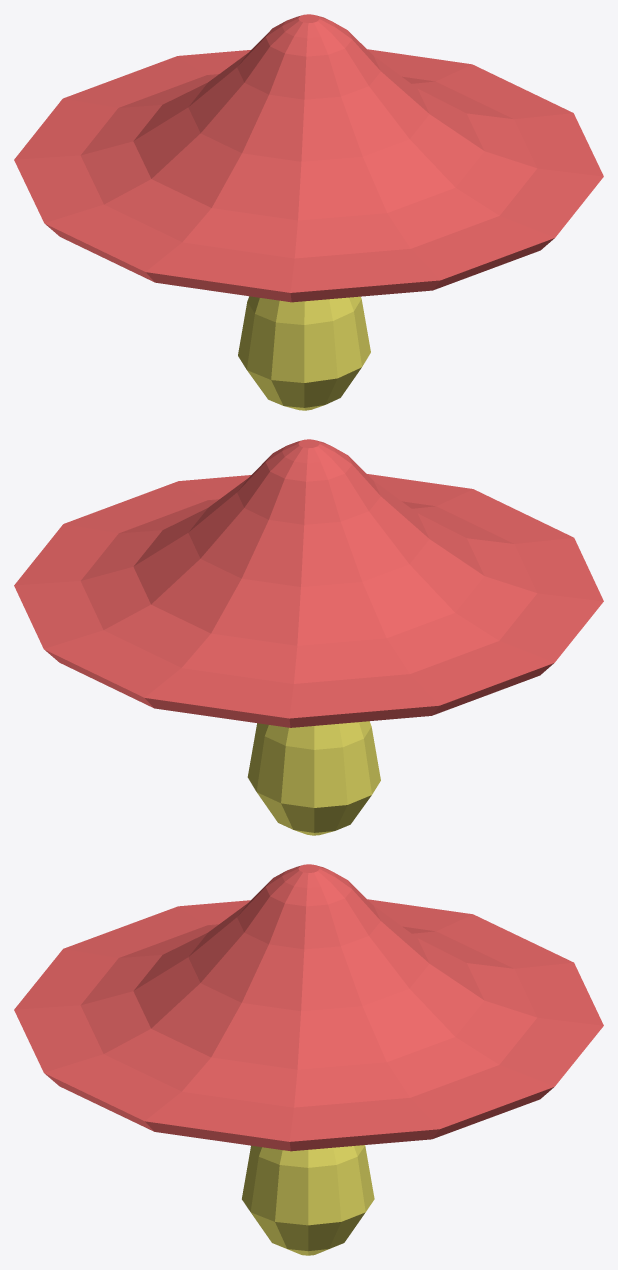
The model's file is fungi 1.fbx.
The picture shows the model from 3 angles, top to bottom: view 1: azimuth 30°, elevation 25°; view 2: azimuth 150°, elevation 25°; view 3: azimuth 270°, elevation 25°; orthographic projection.
Parts seen in each view (by area): view 1: Circle.002; view 2: Circle.002; view 3: Circle.002.
Part boxes in pixels (x1,y1,x2,y2): Circle.002: (14, 14, 603, 410); Circle.002: (14, 439, 603, 835); Circle.002: (14, 864, 603, 1255).
Bounding box in the file's own units: 257 × 185 × 258.
